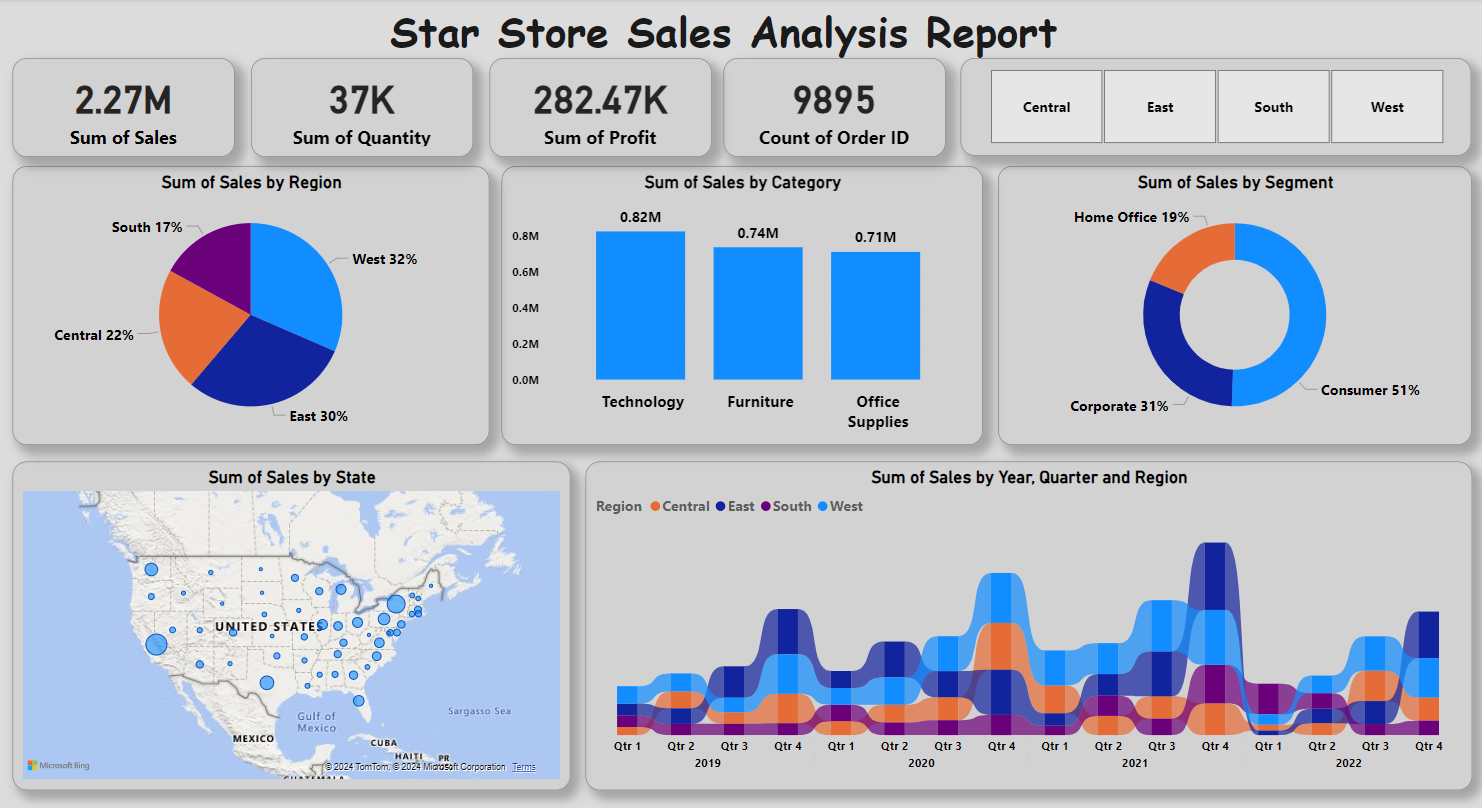

This screenshot's page, from the dashboard's own definition file:
{"tool":"powerbi","page":{"name":"Page 1","canvas":[1550,850],"ordinal":0},"visuals":[{"type":"pieChart","fields":{"Category":["Monthly Sales Data.Region"],"Y":["Sum(Monthly Sales Data.Sales)"]},"box":[14.1,175.4,498.1,291.3],"z":0},{"type":"actionButton","box":[170.7,0,1171.6,62.7],"z":1000},{"type":"ribbonChart","title":"Sum of Sales by Year, Quarter and Region","fields":{"Y":["Sum(Monthly Sales Data.Sales)"],"Series":["Monthly Sales Data.Region"],"Category":["Monthly Sales Data.Order Date.Variation.Date Hierarchy.Year","Monthly Sales Data.Order Date.Variation.Date Hierarchy.Quarter"]},"box":[612.5,484,925.7,343],"z":2000},{"type":"map","fields":{"Category":["Monthly Sales Data.State"],"Size":["Sum(Monthly Sales Data.Sales)"]},"box":[14.1,484,582.7,343],"z":3000},{"type":"donutChart","fields":{"Y":["Sum(Monthly Sales Data.Sales)"],"Category":["Monthly Sales Data.Segment"]},"box":[1043.2,175.4,495,291.3],"z":4000},{"type":"columnChart","fields":{"Category":["Monthly Sales Data.Category"],"Y":["Sum(Monthly Sales Data.Sales)"]},"box":[524.7,175.4,502.8,291.3],"z":5000},{"type":"card","fields":{"Values":["Sum(Monthly Sales Data.Sales)"]},"box":[14.1,62.7,231.8,103.4],"z":5001},{"type":"card","fields":{"Values":["Sum(Monthly Sales Data.Quantity)"]},"box":[263.2,62.7,231.8,103.4],"z":5002},{"type":"card","fields":{"Values":["Sum(Monthly Sales Data.Profit)"]},"box":[512.2,62.7,231.8,103.4],"z":5003},{"type":"card","fields":{"Values":["CountNonNull(Monthly Sales Data.Order ID)"]},"box":[756.6,62.7,231.8,103.4],"z":5004},{"type":"slicer","fields":{"Values":["Monthly Sales Data.Region"]},"box":[1003.8,63.4,533.6,102.1],"z":5005}]}

Visuals, with their boxes in screenshot pixels (x1, y1, x2, y2), scaled from the page's 1550x850 canvas onto the 1482x808 screenshot:
pieChart - Monthly Sales Data.Region x Sum(Monthly Sales Data.Sales): 13:167:490:444
actionButton: 163:0:1283:60
"Sum of Sales by Year, Quarter and Region" ribbonChart: 586:460:1471:786
map - Monthly Sales Data.State x Sum(Monthly Sales Data.Sales): 13:460:571:786
donutChart - Sum(Monthly Sales Data.Sales) x Monthly Sales Data.Segment: 997:167:1471:444
columnChart - Monthly Sales Data.Category x Sum(Monthly Sales Data.Sales): 502:167:982:444
card - Sum(Monthly Sales Data.Sales): 13:60:235:158
card - Sum(Monthly Sales Data.Quantity): 252:60:473:158
card - Sum(Monthly Sales Data.Profit): 490:60:711:158
card - CountNonNull(Monthly Sales Data.Order ID): 723:60:945:158
slicer - Monthly Sales Data.Region: 960:60:1470:157
